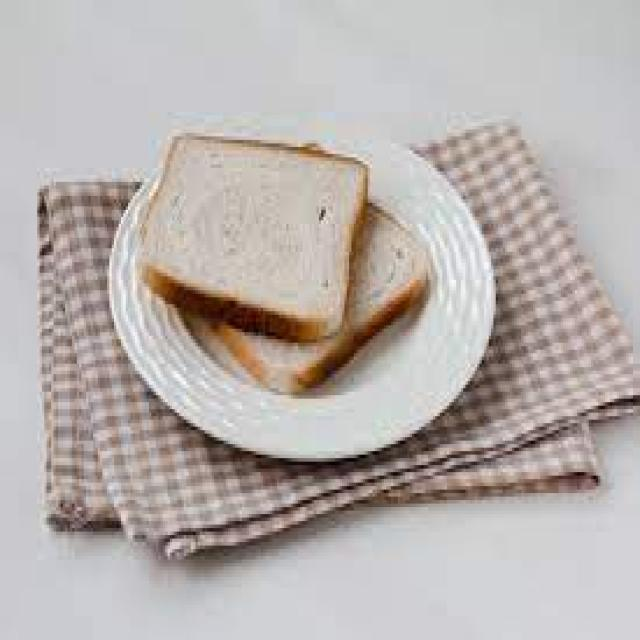Bread: (180, 205, 426, 392), (145, 142, 366, 335)
